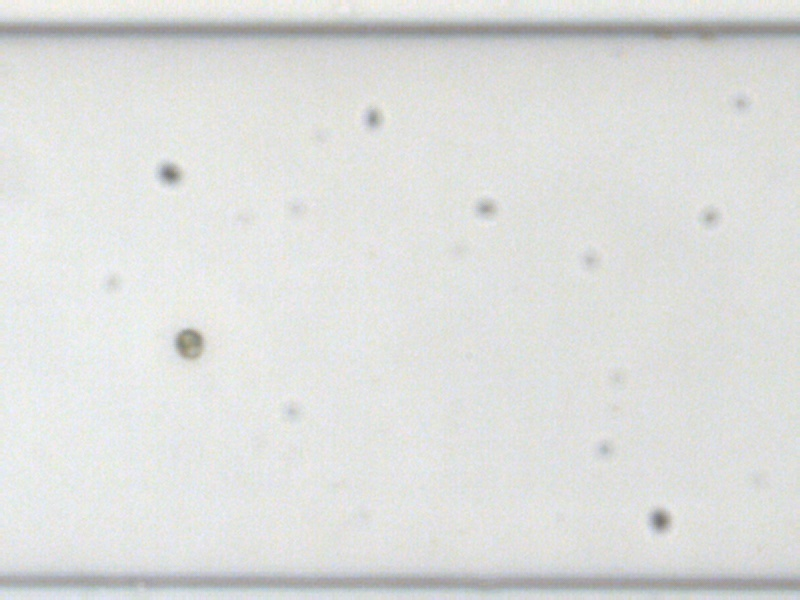Dunaliella salina: (174, 328, 203, 360)
